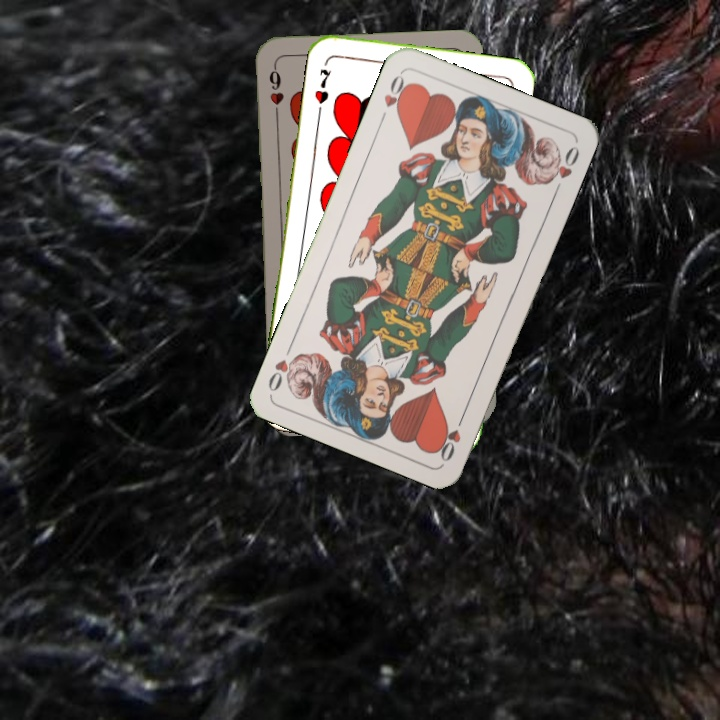H7: (310, 65, 334, 106)
H9: (265, 61, 286, 120)
HO: (376, 69, 413, 126), (435, 408, 468, 465)
